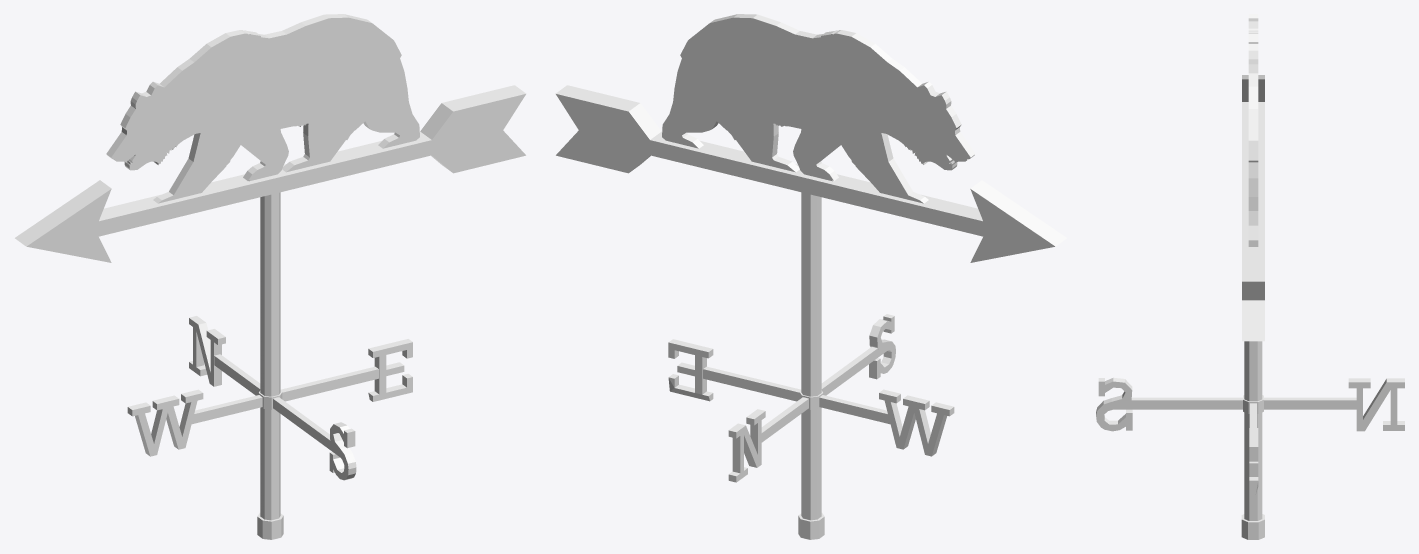
The model's file is Prop_Weathervane_05.glb.
The picture shows the model from 3 angles, left to right: view 1: azimuth 30°, elevation 25°; view 2: azimuth 150°, elevation 25°; view 3: azimuth 270°, elevation 25°; orthographic projection. The views are drawn at different scales.
Parts seen in each view (by area): view 1: Prop_Weathervane_Top_05, Prop_Weathervane_05; view 2: Prop_Weathervane_Top_05, Prop_Weathervane_05; view 3: Prop_Weathervane_05, Prop_Weathervane_Top_05.
Part boxes in pixels (x1,y1,x2,y2): Prop_Weathervane_Top_05: (15,14,525,262); Prop_Weathervane_05: (127,192,412,539); Prop_Weathervane_Top_05: (556,14,1066,262); Prop_Weathervane_05: (668,192,954,539); Prop_Weathervane_05: (1096,341,1404,539); Prop_Weathervane_Top_05: (1242,14,1264,341).
Size of the model in its own units: 1.04 by 1.01 by 0.5747.
Materials: 1 (1 with a texture image).
